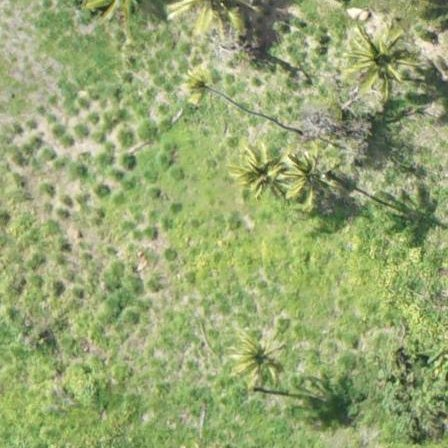palm_tree: (340, 21, 411, 97), (231, 334, 289, 388), (234, 143, 287, 197), (286, 147, 335, 202)
